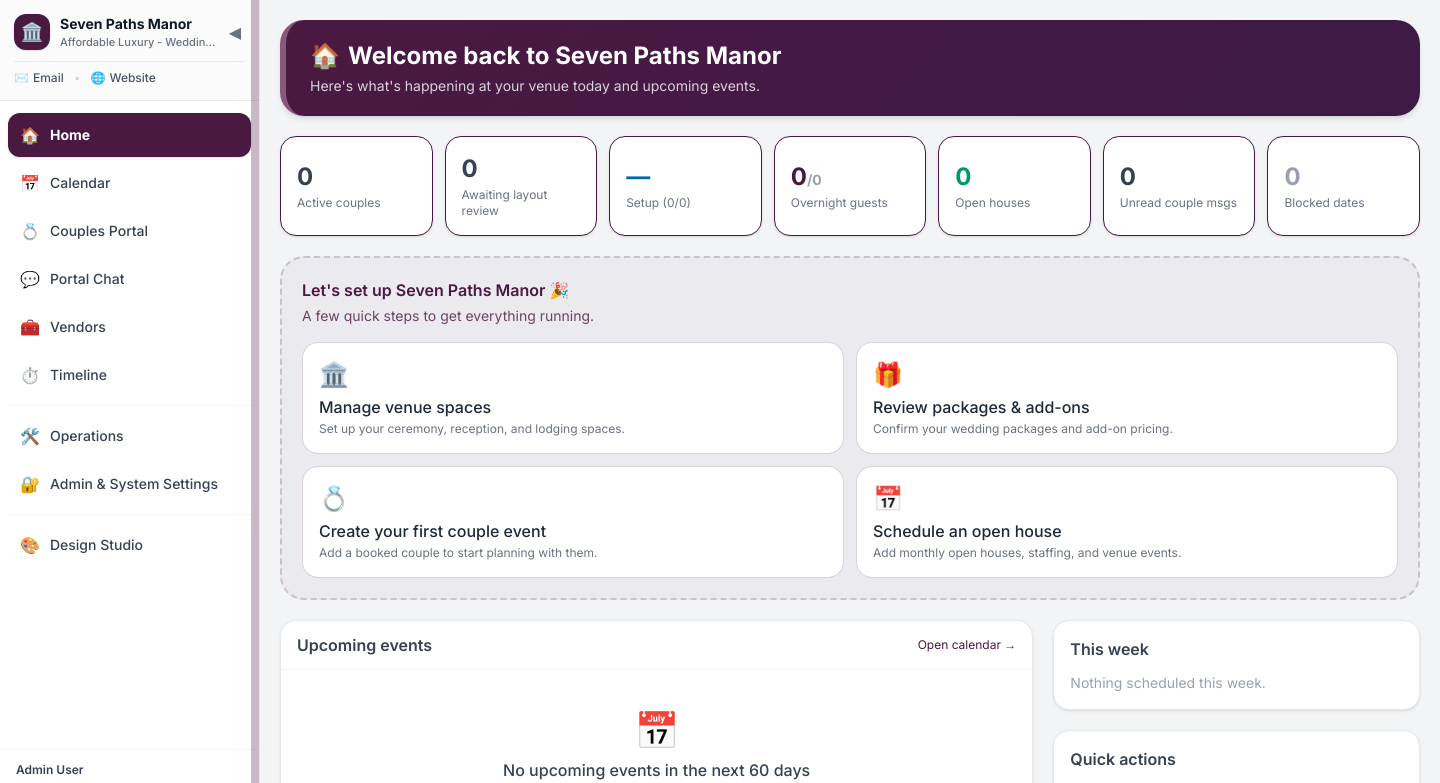
it: Venue Portal Design Consistency & Navigation Audit (#164) › renders uniform executive headers across Home, Calendar, and Couples Portal in VenueDashboard without redundant ← Dashboard Home buttons
This screenshot has width=1440, height=783.
Expected: the text "Welcome back to Seven Paths Manor" is shown, [348,40,781,72]
Switch to Calendar section via sidebar
Click the button "📅 Calendar" at (130,182), box [8,160,251,204]
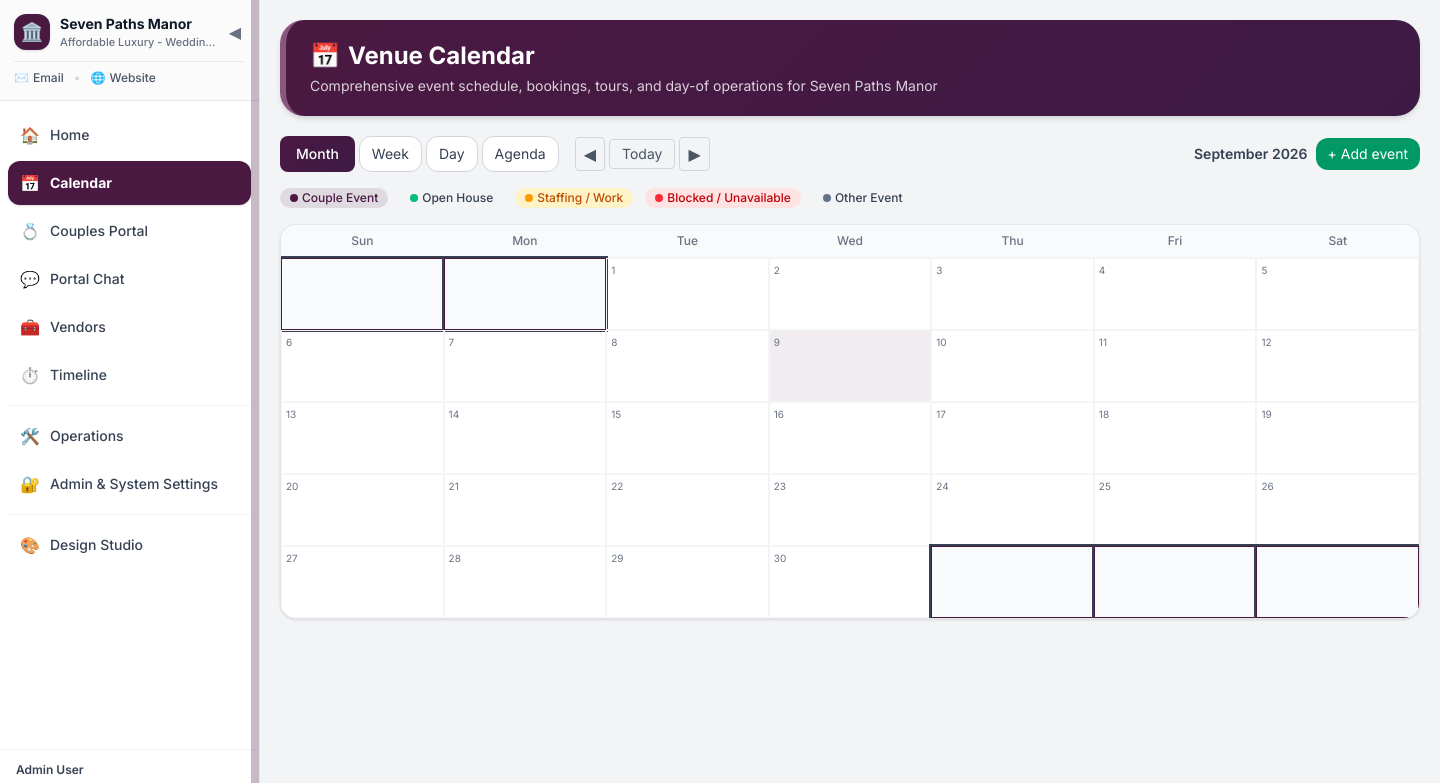
Result: the heading "📅 Venue Calendar" is shown at [310,41,535,70]
Switch to Couples Portal section via sidebar
Click the button "💍 Couples Portal" at (130,230), box [8,208,251,252]
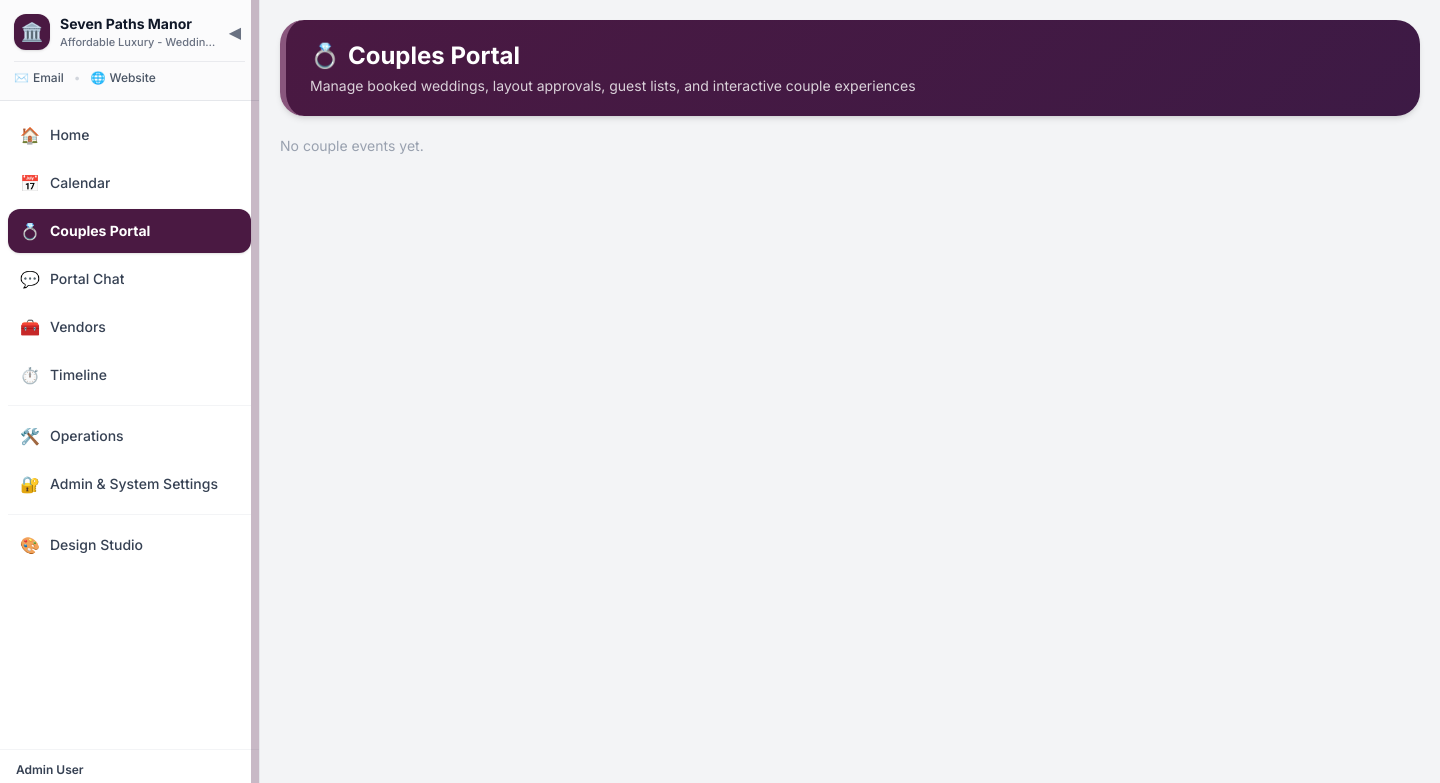
Result: the heading "💍 Couples Portal" is shown at [310,41,520,70]
